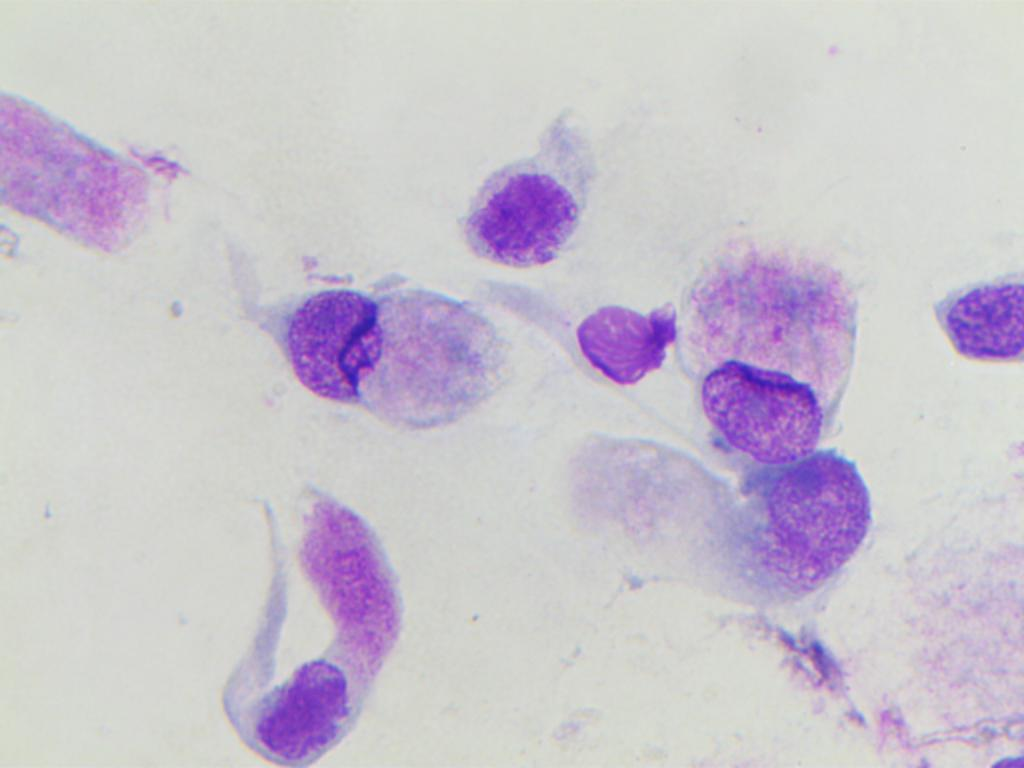ciliated: (233, 488, 411, 765)
epithelial: (761, 442, 881, 587), (912, 248, 1023, 398), (451, 157, 584, 279)
goblet_cell: (675, 236, 887, 464), (251, 283, 505, 423)
